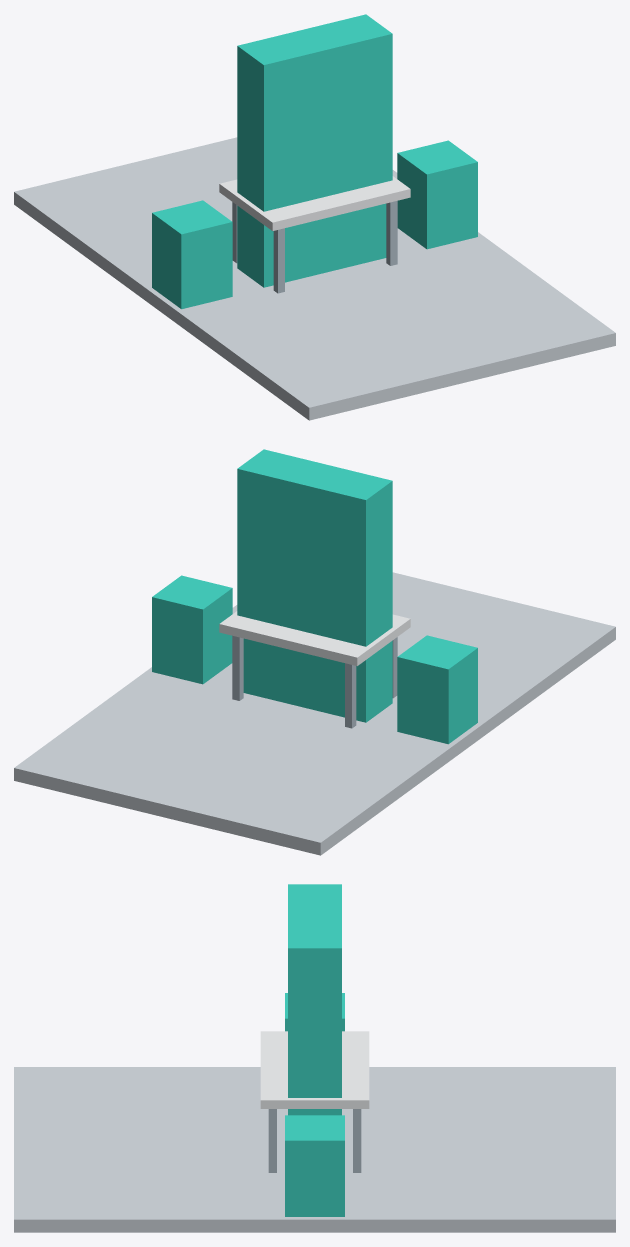
The picture shows the model from 3 angles, top to bottom: view 1: azimuth 30°, elevation 25°; view 2: azimuth 150°, elevation 25°; view 3: azimuth 270°, elevation 25°; orthographic projection.
Parts seen in each view (by area): view 1: Exhibition Booth Concept; view 2: Exhibition Booth Concept; view 3: Exhibition Booth Concept.
Boxes of the visible parts, x1,y1,x2,y2 form: Exhibition Booth Concept: [14, 14, 615, 420]; Exhibition Booth Concept: [14, 449, 615, 855]; Exhibition Booth Concept: [14, 884, 615, 1232].
Size of the model in its own units: 3 by 2.2 by 5.
